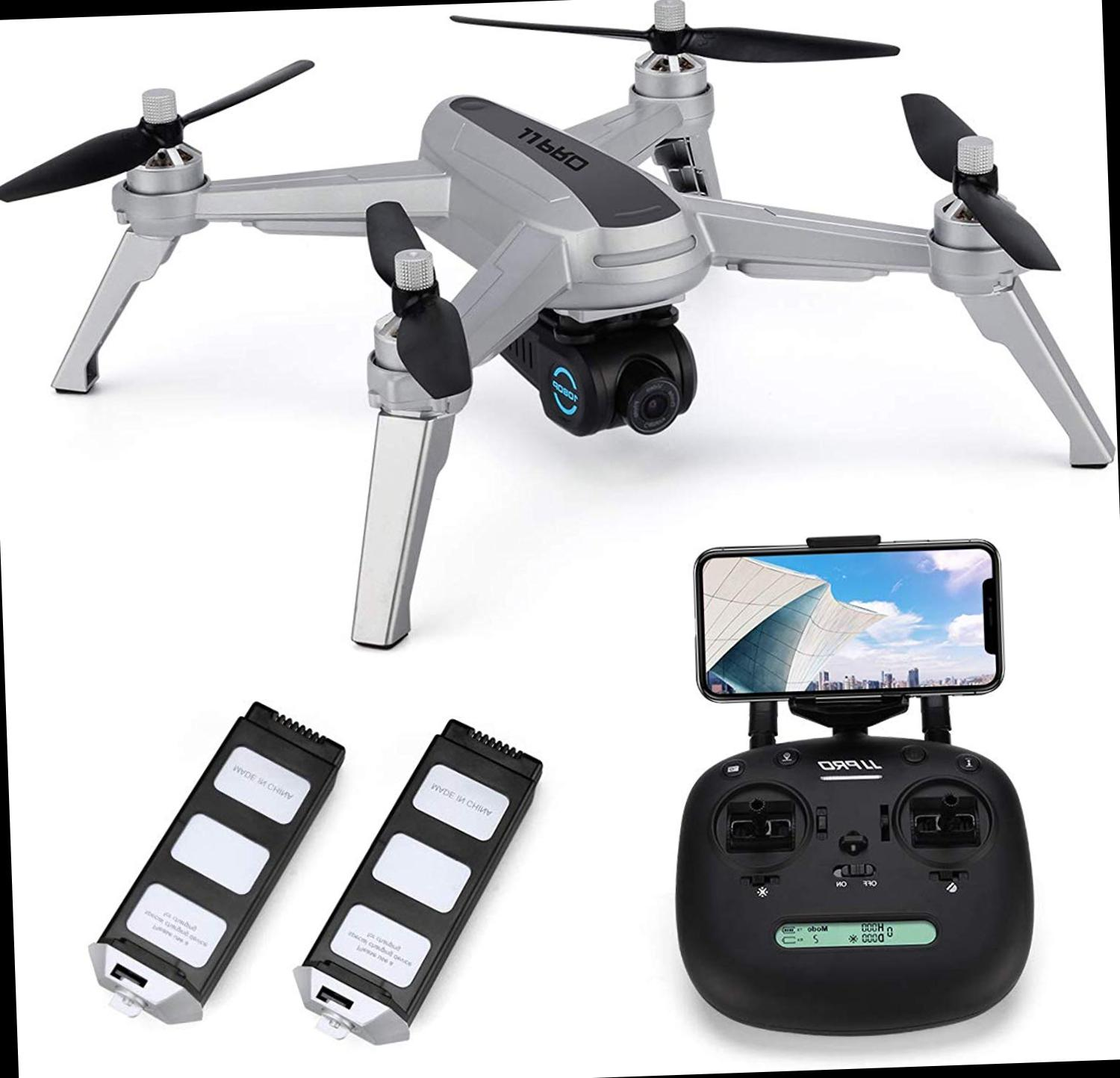drone: (0, 0, 1101, 539)
